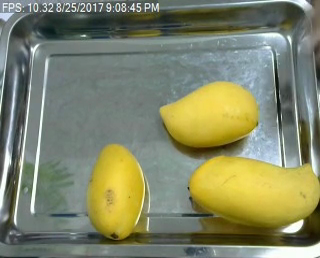Mango: (189, 153, 320, 226), (157, 80, 260, 147), (83, 142, 146, 241)
